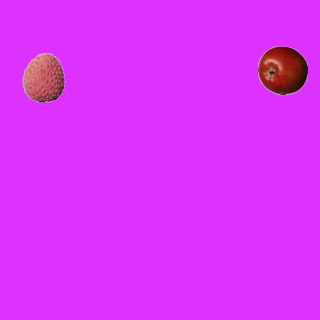Apple Braeburn: (257, 45, 307, 95)
Lychee: (18, 52, 68, 102)
